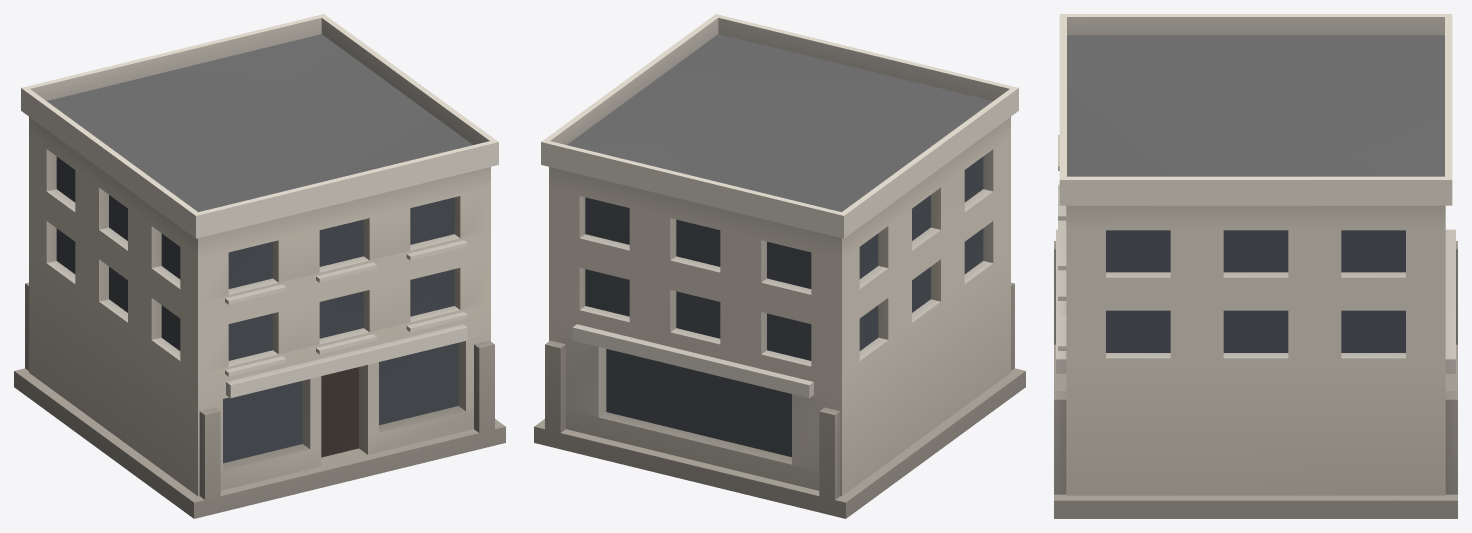
The model's file is building-lowrise-parapet.glb.
The picture shows the model from 3 angles, left to right: view 1: azimuth 30°, elevation 25°; view 2: azimuth 150°, elevation 25°; view 3: azimuth 270°, elevation 25°; orthographic projection. The views are drawn at different scales.
Parts seen in each view (by area): view 1: Building; view 2: Building; view 3: Building.
Boxes of the visible parts, box(x1,y1,x2,y2) form: Building: box(14, 14, 505, 518); Building: box(534, 14, 1025, 518); Building: box(1054, 14, 1457, 518).
Bounding box in the file's own units: 1 × 0.92 × 1.
